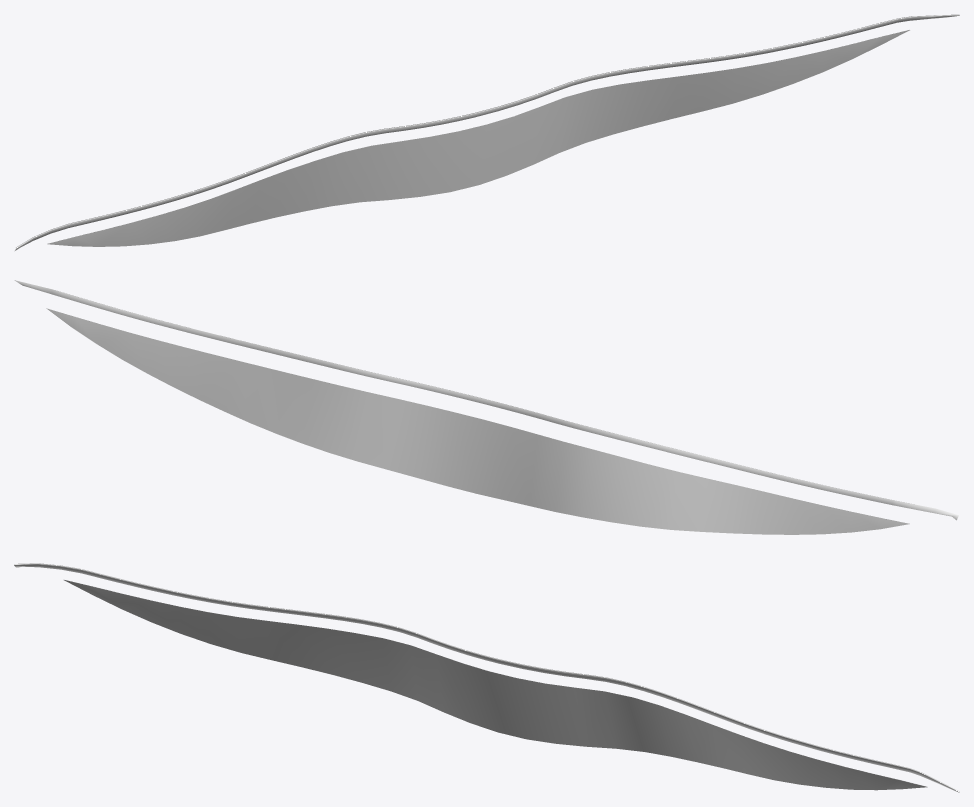
Rendered from Jac_Flic_BEHIND_V2.glb.
3 renders of one model, top to bottom at view 1: azimuth 30°, elevation 25°; view 2: azimuth 150°, elevation 25°; view 3: azimuth 330°, elevation 25°, orthographic.
Parts seen in each view (by area): view 1: Jac_Flic_BEHIND.001, Jac_Rope_Flic_BEHIND.001; view 2: Jac_Flic_BEHIND.001, Jac_Rope_Flic_BEHIND.001; view 3: Jac_Flic_BEHIND.001, Jac_Rope_Flic_BEHIND.001.
Boxes of the visible parts, x1=… form: Jac_Flic_BEHIND.001: x1=47, y1=30, x2=909, y2=246; Jac_Rope_Flic_BEHIND.001: x1=14, y1=14, x2=959, y2=251; Jac_Flic_BEHIND.001: x1=46, y1=308, x2=909, y2=534; Jac_Rope_Flic_BEHIND.001: x1=14, y1=280, x2=958, y2=520; Jac_Flic_BEHIND.001: x1=64, y1=580, x2=927, y2=790; Jac_Rope_Flic_BEHIND.001: x1=14, y1=563, x2=959, y2=792.
Bounding box in the file's own units: 0.773 × 0.0693 × 0.0444.
Materials: 2 (2 with a texture image).
